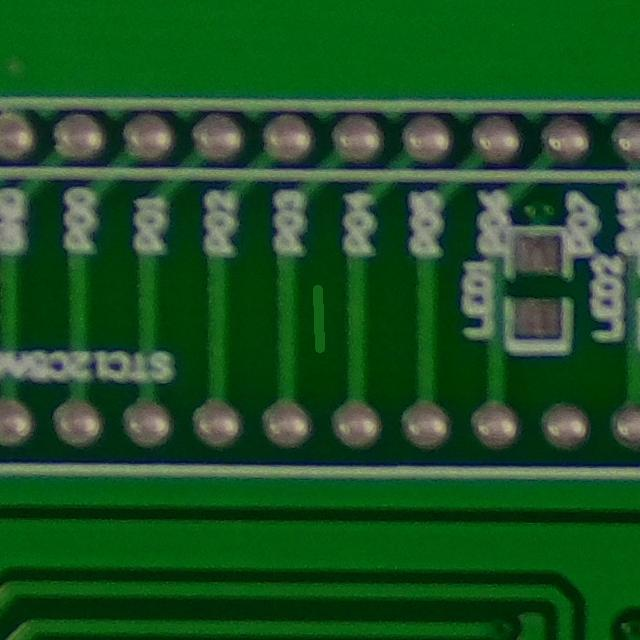spurious_copper: (291, 274, 350, 366)
